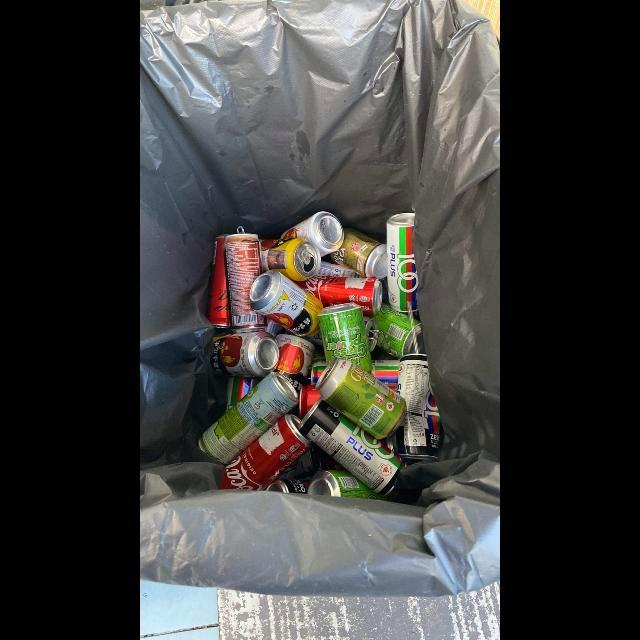aluminum: (298, 397, 407, 497), (199, 372, 300, 465), (315, 357, 405, 440), (221, 414, 313, 491), (249, 270, 324, 337), (223, 226, 268, 333), (397, 354, 441, 460), (318, 302, 373, 374), (293, 275, 383, 314), (386, 213, 419, 313), (369, 302, 426, 359), (210, 331, 280, 377), (330, 228, 388, 279), (280, 211, 344, 257), (273, 333, 316, 397), (260, 238, 321, 281), (307, 471, 391, 502), (312, 360, 399, 387), (206, 234, 230, 329), (223, 376, 265, 416), (265, 479, 311, 494)
